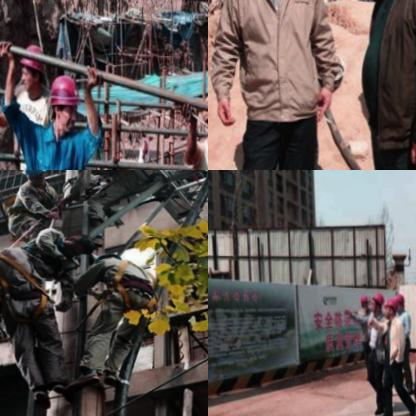helmet: (47, 73, 79, 131), (16, 41, 46, 93), (199, 84, 208, 145), (367, 289, 385, 312), (18, 170, 45, 185), (382, 293, 396, 316), (394, 288, 406, 310), (359, 290, 368, 309), (411, 282, 416, 311)
